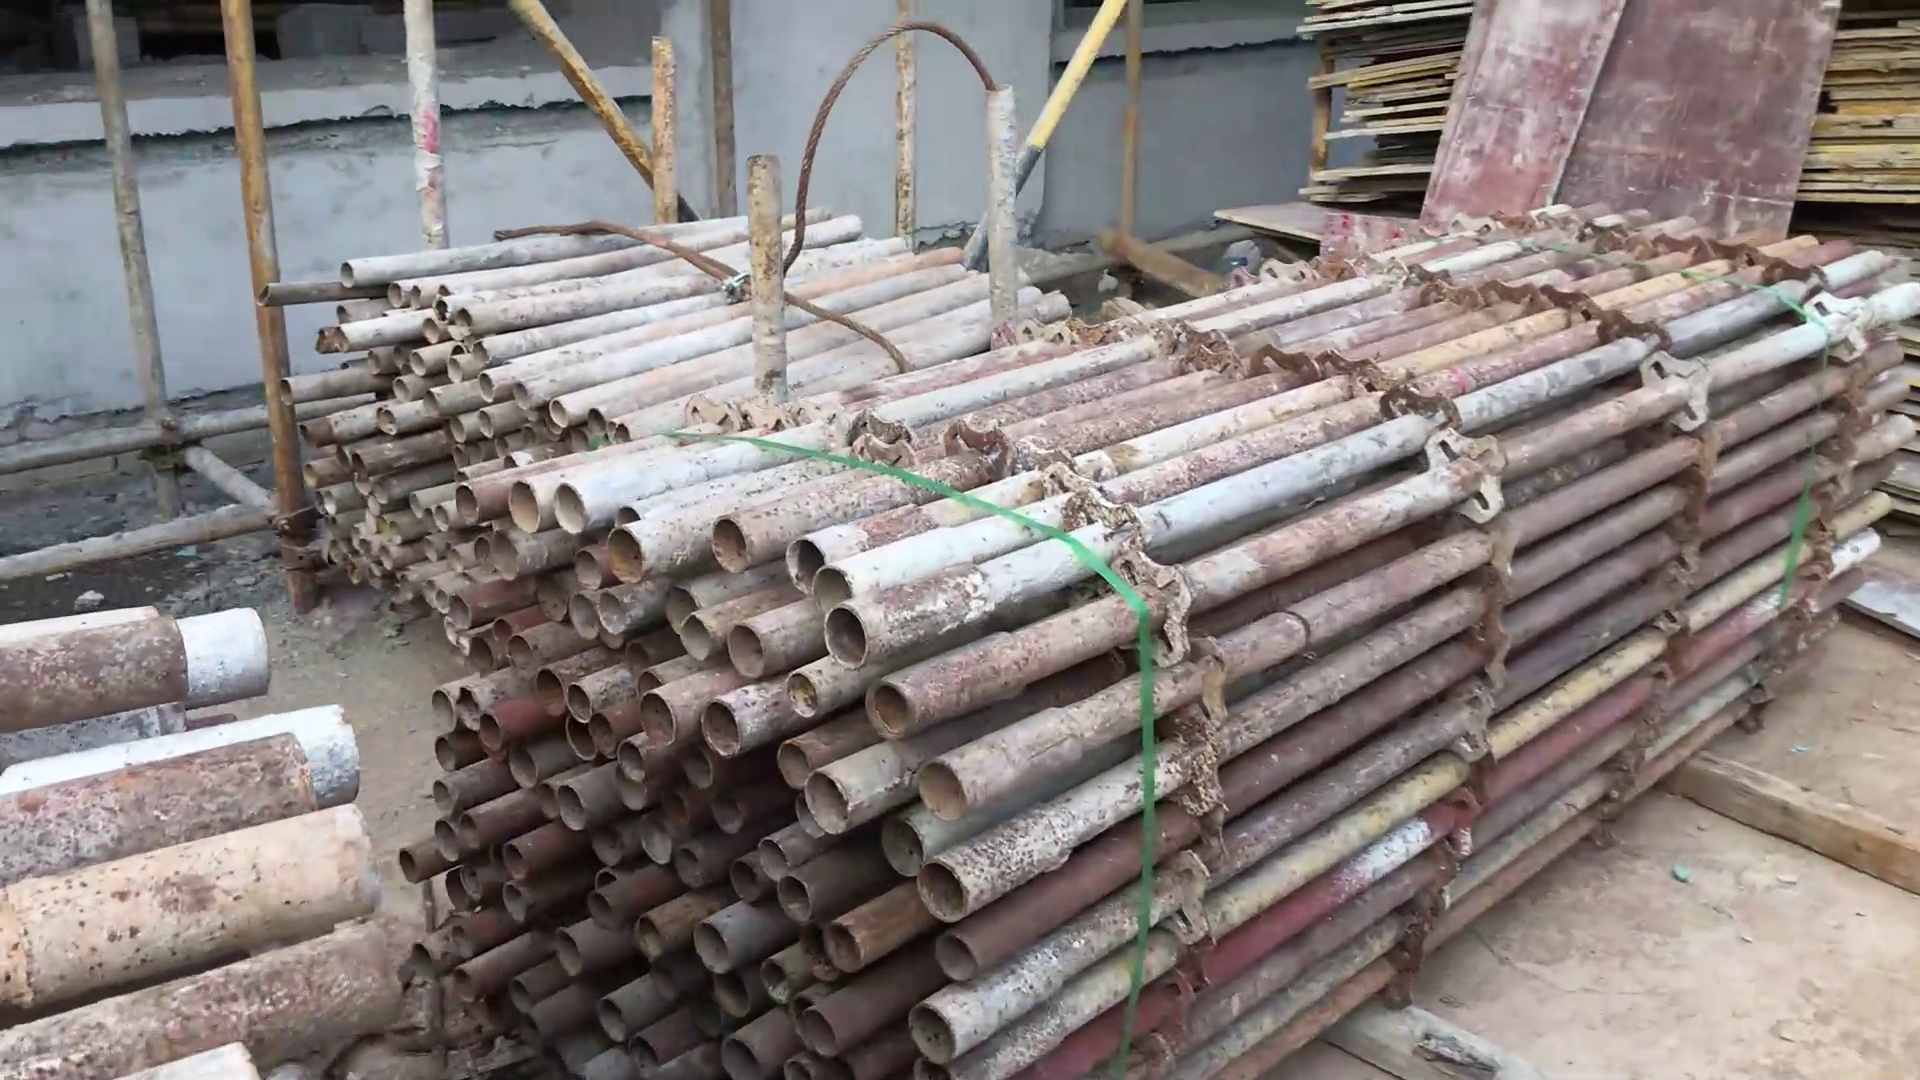board: (1288, 3, 1920, 237)
scaffold: (415, 195, 1917, 1071), (293, 183, 1072, 644)
